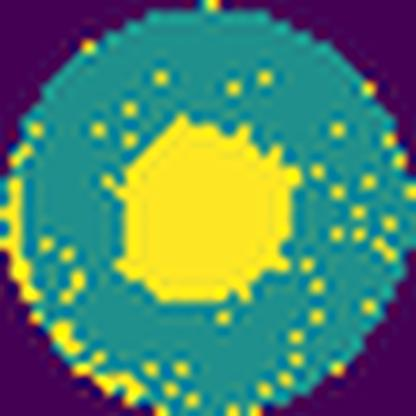Center: (115, 112, 302, 306)
